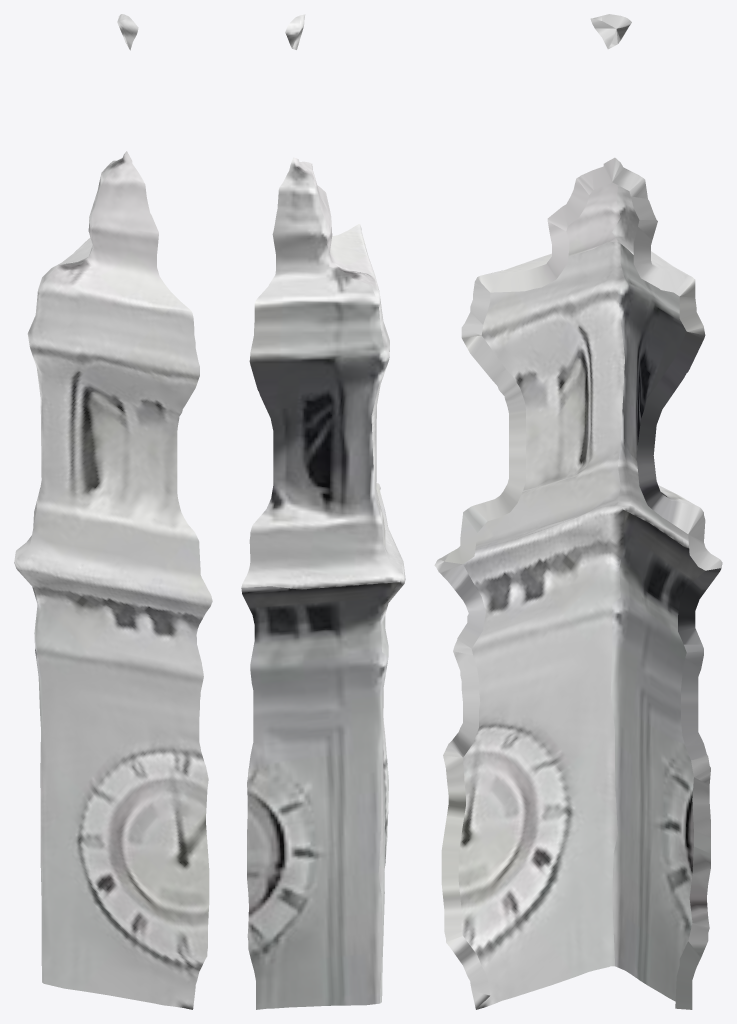
File: z20-167790-405221-h1-yup-uvflip-v3-world.glb
The picture shows the model from 3 angles, left to right: view 1: azimuth 30°, elevation 25°; view 2: azimuth 150°, elevation 25°; view 3: azimuth 270°, elevation 25°; orthographic projection. The views are drawn at different scales.
Bounding box in the file's own units: 3.76 × 30.64 × 8.04.
1 material, 1 textured.
